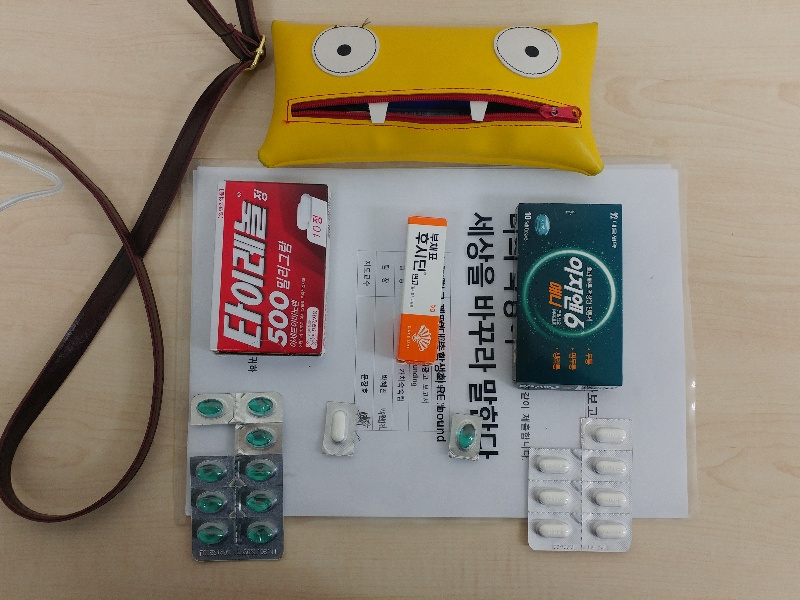ezn: (518, 204, 623, 386)
fucidin: (396, 217, 448, 363)
pill_ezn: (448, 413, 479, 461), (236, 393, 282, 422), (191, 488, 235, 518), (237, 456, 282, 485), (191, 456, 234, 486), (237, 424, 281, 453), (238, 487, 282, 516), (191, 394, 234, 423), (239, 518, 283, 546), (192, 519, 236, 544)
pill_tylenol: (321, 401, 356, 456), (528, 480, 582, 511), (529, 449, 581, 479), (582, 418, 632, 449), (583, 481, 630, 513), (528, 514, 583, 541), (583, 450, 632, 480), (585, 515, 630, 541)
tylenol: (210, 180, 328, 355)
